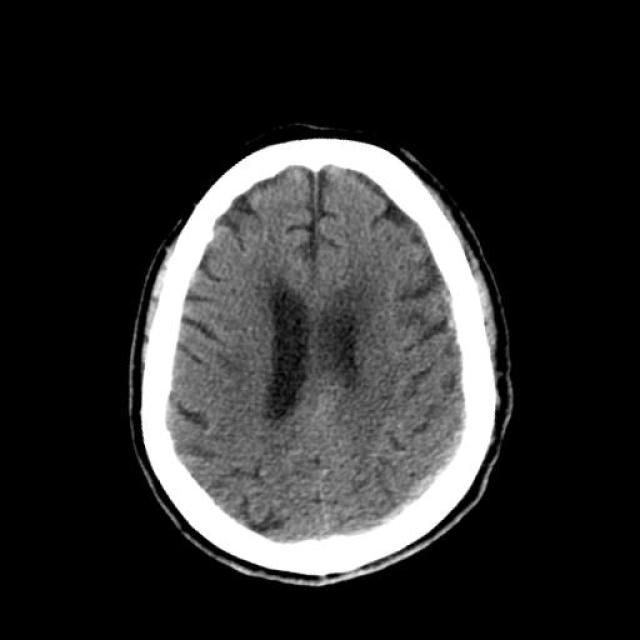Subdural: (354, 432, 494, 528)
